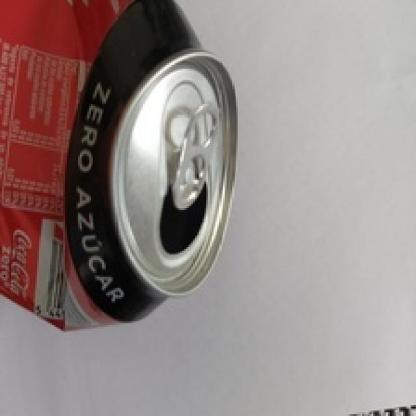Can: (0, 0, 239, 334)
